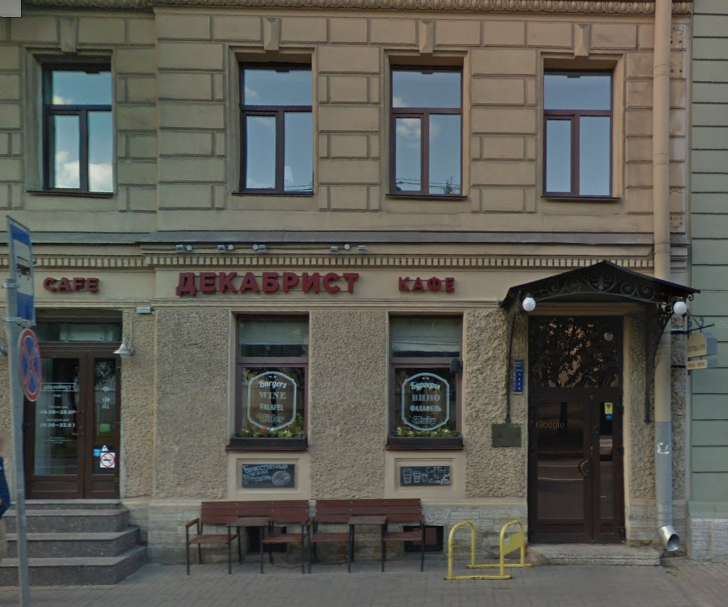door: (528, 312, 627, 546), (26, 352, 118, 493)
signboard: (39, 264, 460, 299)
window: (33, 57, 113, 195), (540, 59, 615, 200), (240, 62, 315, 196), (388, 62, 462, 197), (231, 313, 306, 443), (390, 313, 464, 444)
